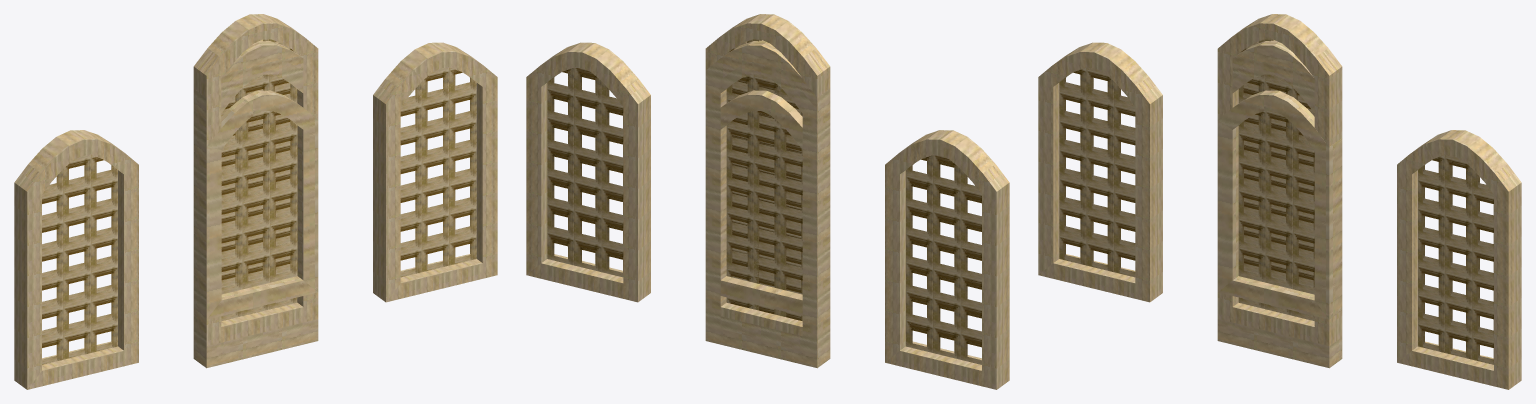
The model's file is Windows.fbx.
The picture shows the model from 3 angles, left to right: view 1: azimuth 30°, elevation 25°; view 2: azimuth 150°, elevation 25°; view 3: azimuth 330°, elevation 25°; orthographic projection.
Visible parts, largest first — view 1: Window3O, Window2F, WindowAO, Window1F; view 2: Window3O, WindowAO, Window1F, Window2F; view 3: Window3O, Window2F, WindowAO, Window1F.
Part boxes in pixels (x1=…): Window3O: x1=14, y1=14, x2=497, y2=389; Window2F: x1=206, y1=90, x2=318, y2=319; WindowAO: x1=193, y1=39, x2=318, y2=368; Window1F: x1=221, y1=58, x2=318, y2=348; Window3O: x1=526, y1=14, x2=1009, y2=389; WindowAO: x1=705, y1=40, x2=830, y2=368; Window1F: x1=720, y1=58, x2=817, y2=355; Window2F: x1=720, y1=90, x2=802, y2=315; Window3O: x1=1038, y1=14, x2=1521, y2=389; Window2F: x1=1217, y1=90, x2=1342, y2=319; WindowAO: x1=1217, y1=40, x2=1342, y2=368; Window1F: x1=1232, y1=60, x2=1329, y2=355.
Bounding box in the file's own units: 317 × 213 × 15.04.
